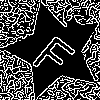F: (29, 26, 84, 81)
